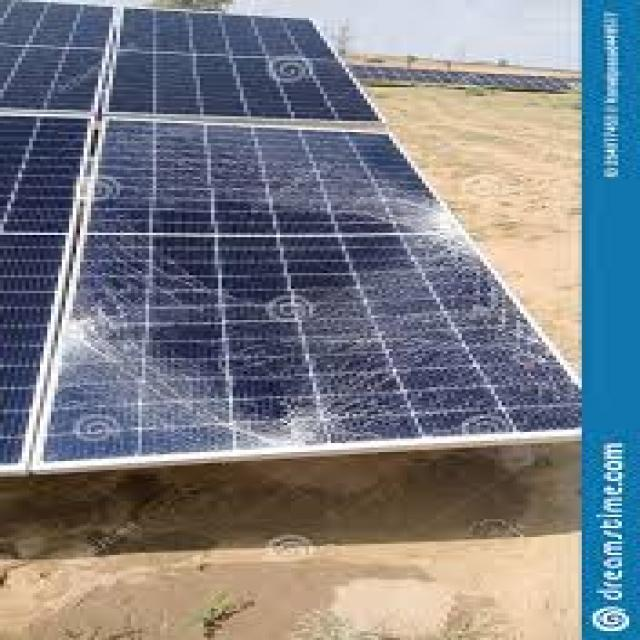faulty: (18, 123, 579, 470)
